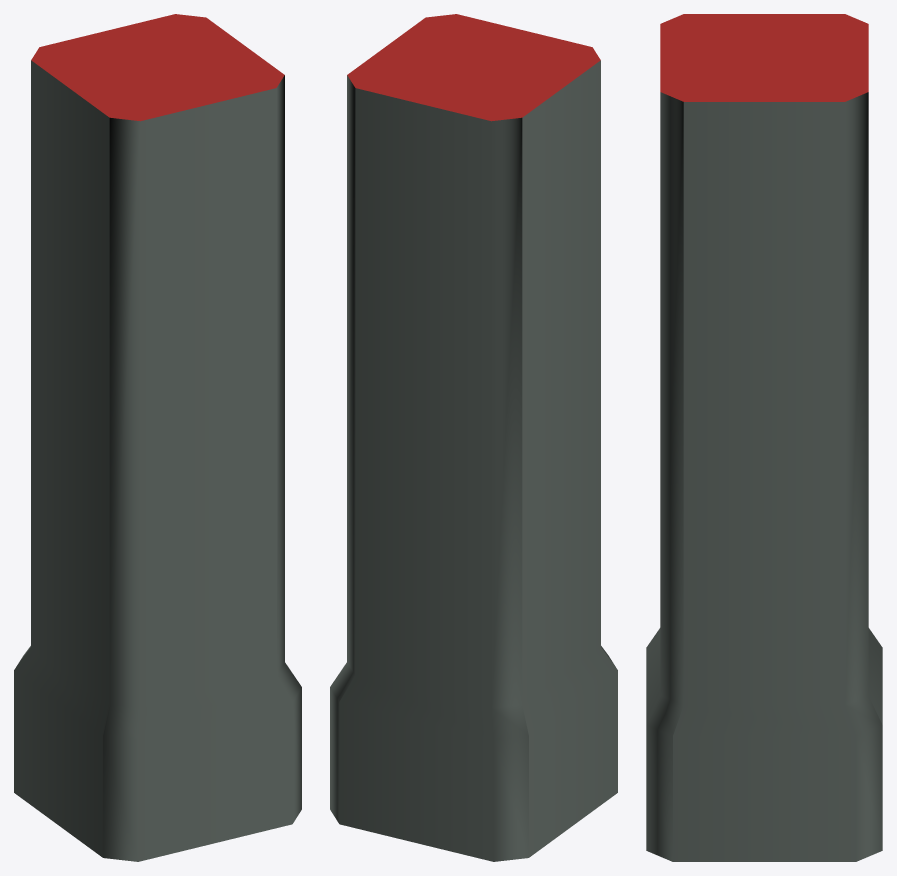
File: DungeonPillar.fbx
3 renders of one model, left to right at view 1: azimuth 30°, elevation 25°; view 2: azimuth 150°, elevation 25°; view 3: azimuth 270°, elevation 25°, orthographic. The views are drawn at different scales.
Visible parts, largest first — view 1: DungeonPillar; view 2: DungeonPillar; view 3: DungeonPillar.
Part boxes in pixels (x1,y1,x2,y2): DungeonPillar: (14,14,301,861); DungeonPillar: (330,14,617,861); DungeonPillar: (646,14,882,861).
Bounding box in the file's own units: 28.38 × 100 × 28.38.
